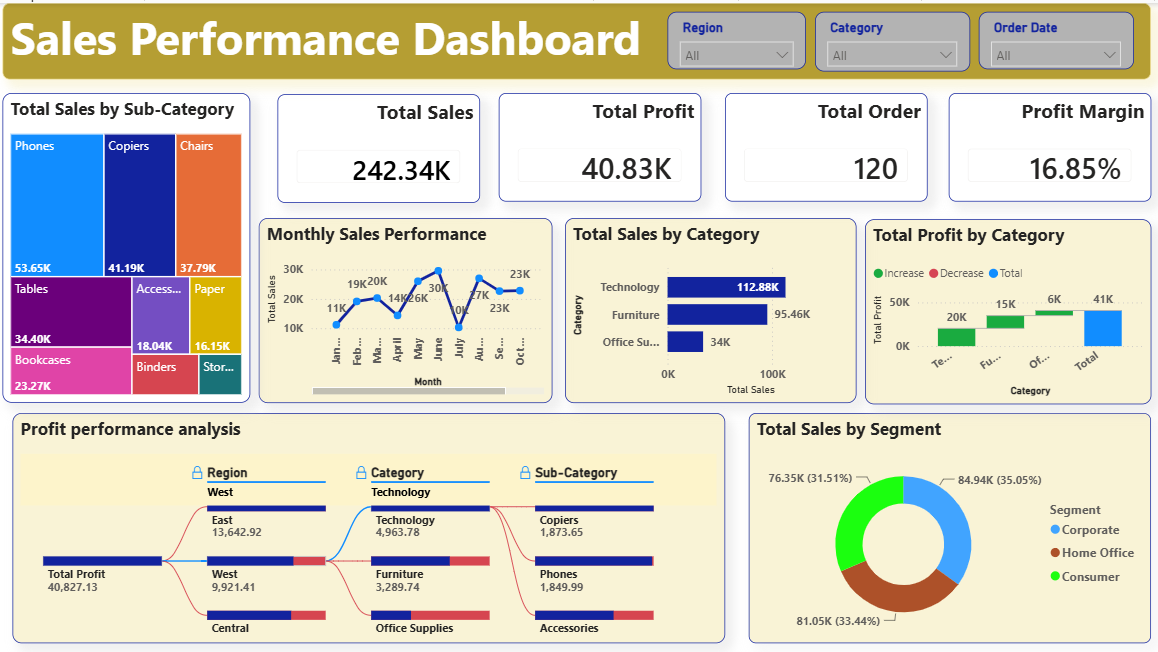

Layout of this report page (visuals, bound fields, positions):
{"tool":"powerbi","page":{"name":"Page 1","canvas":[1280,720],"ordinal":0},"visuals":[{"type":"textbox","title":"Sales Performance Dashboard","box":[8.2,0,1261.1,83.7],"z":0},{"type":"cardVisual","title":"Total Sales","fields":{"Data":["powerbi_sales_dashboard_dataset.Total Sales"]},"box":[310.1,100.2,222.3,119.4],"z":1000},{"type":"cardVisual","title":"Total Profit","fields":{"Data":["powerbi_sales_dashboard_dataset.Total Profit"]},"box":[553,98.8,222.3,119.4],"z":2000},{"type":"cardVisual","title":"Total Order","fields":{"Data":["powerbi_sales_dashboard_dataset.Total Orders"]},"box":[801.4,98.8,222.3,119.4],"z":3000},{"type":"cardVisual","title":"Profit Margin","fields":{"Data":["powerbi_sales_dashboard_dataset.Profit Margin %"]},"box":[1047,98.8,222.3,119.4],"z":4000},{"type":"lineChart","title":"Monthly Sales Performance","fields":{"Category":["powerbi_sales_dashboard_dataset.Order Date.Variation.Date Hierarchy.Month"],"Y":["powerbi_sales_dashboard_dataset.Total Sales"]},"box":[289.5,236,322.5,203.1],"z":5000},{"type":"clusteredBarChart","fields":{"Category":["powerbi_sales_dashboard_dataset.Category"],"Y":["powerbi_sales_dashboard_dataset.Total Sales"]},"box":[625.7,236,319.7,203.1],"z":6000},{"type":"donutChart","fields":{"Category":["powerbi_sales_dashboard_dataset.Segment"],"Y":["powerbi_sales_dashboard_dataset.Total Sales"]},"box":[827.4,450.1,441.9,252.5],"z":7000},{"type":"waterfallChart","fields":{"Category":["powerbi_sales_dashboard_dataset.Category"],"Y":["powerbi_sales_dashboard_dataset.Total Profit"]},"box":[955.1,237.4,314.2,203.1],"z":8000},{"type":"decompositionTreeVisual","title":"Profit performance analysis","fields":{"Analyze":["powerbi_sales_dashboard_dataset.Total Profit"],"ExplainBy":["powerbi_sales_dashboard_dataset.Region","powerbi_sales_dashboard_dataset.Category","powerbi_sales_dashboard_dataset.Sub-Category"]},"box":[19.2,450.1,782.2,252.5],"z":9000},{"type":"slicer","title":"Region","fields":{"Values":["powerbi_sales_dashboard_dataset.Region"]},"box":[738.3,9.6,152.3,63.1],"z":10000},{"type":"slicer","fields":{"Values":["powerbi_sales_dashboard_dataset.Category"]},"box":[900.2,9.6,170.2,65.9],"z":11000},{"type":"slicer","fields":{"Values":["powerbi_sales_dashboard_dataset.Order Date"]},"box":[1079.9,9.6,170.2,63.1],"z":12000},{"type":"treemap","fields":{"Group":["powerbi_sales_dashboard_dataset.Sub-Category"],"Values":["powerbi_sales_dashboard_dataset.Total Sales"]},"box":[8.2,98.8,271.7,340.3],"z":13000}]}

Visuals, with their boxes in screenshot pixels (x1, y1, x2, y2), scaled from the page's 1280x720 canvas onto the 1158x652 screenshot:
"Sales Performance Dashboard" textbox: <box>7,0,1148,76</box>
"Total Sales" cardVisual: <box>281,91,482,199</box>
"Total Profit" cardVisual: <box>500,89,701,198</box>
"Total Order" cardVisual: <box>725,89,926,198</box>
"Profit Margin" cardVisual: <box>947,89,1148,198</box>
"Monthly Sales Performance" lineChart: <box>262,214,554,398</box>
clusteredBarChart - powerbi_sales_dashboard_dataset.Category x powerbi_sales_dashboard_dataset.Total Sales: <box>566,214,855,398</box>
donutChart - powerbi_sales_dashboard_dataset.Segment x powerbi_sales_dashboard_dataset.Total Sales: <box>749,408,1148,636</box>
waterfallChart - powerbi_sales_dashboard_dataset.Category x powerbi_sales_dashboard_dataset.Total Profit: <box>864,215,1148,399</box>
"Profit performance analysis" decompositionTreeVisual: <box>17,408,725,636</box>
"Region" slicer: <box>668,9,806,66</box>
slicer - powerbi_sales_dashboard_dataset.Category: <box>814,9,968,68</box>
slicer - powerbi_sales_dashboard_dataset.Order Date: <box>977,9,1131,66</box>
treemap - powerbi_sales_dashboard_dataset.Sub-Category x powerbi_sales_dashboard_dataset.Total Sales: <box>7,89,253,398</box>
